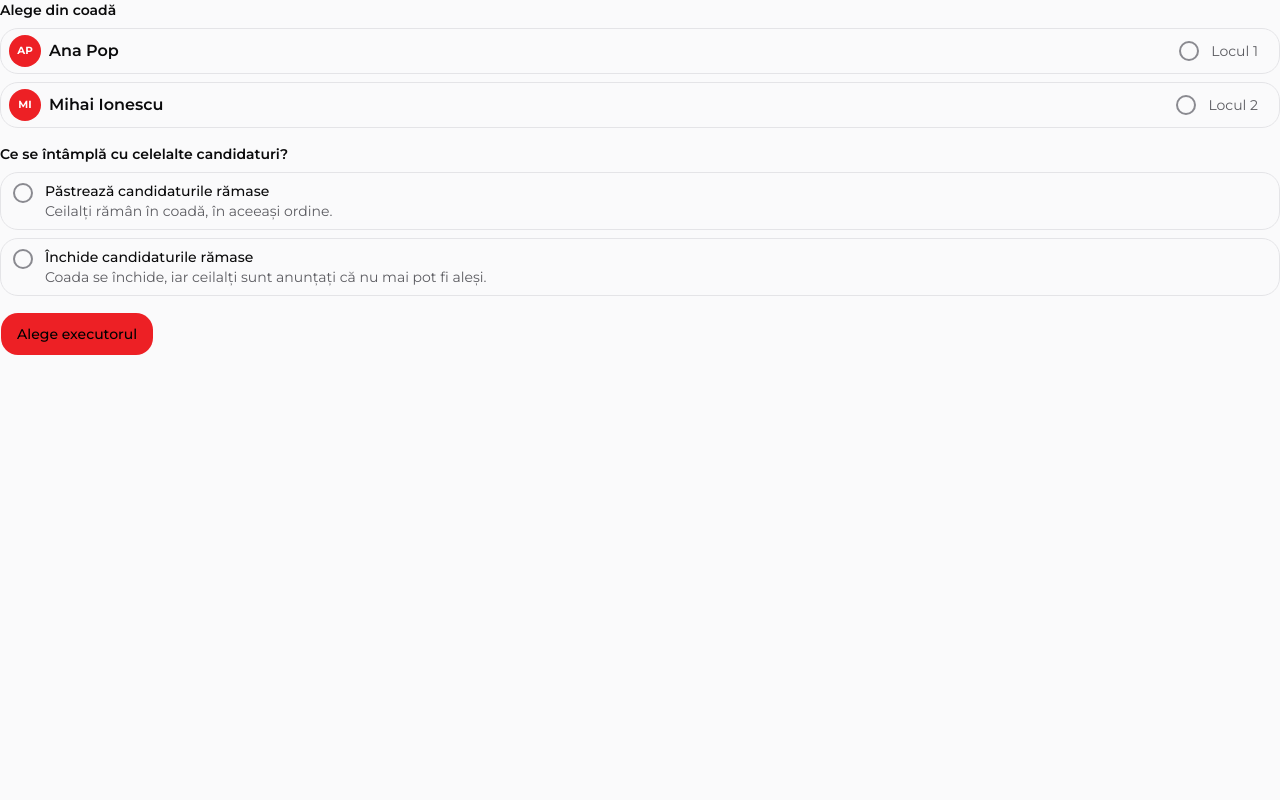
Test: Task candidate selector › says why a Candidate can no longer be selected
Click the radio button named "Ana Pop" at (1189, 51), box [1179,41,1199,61]
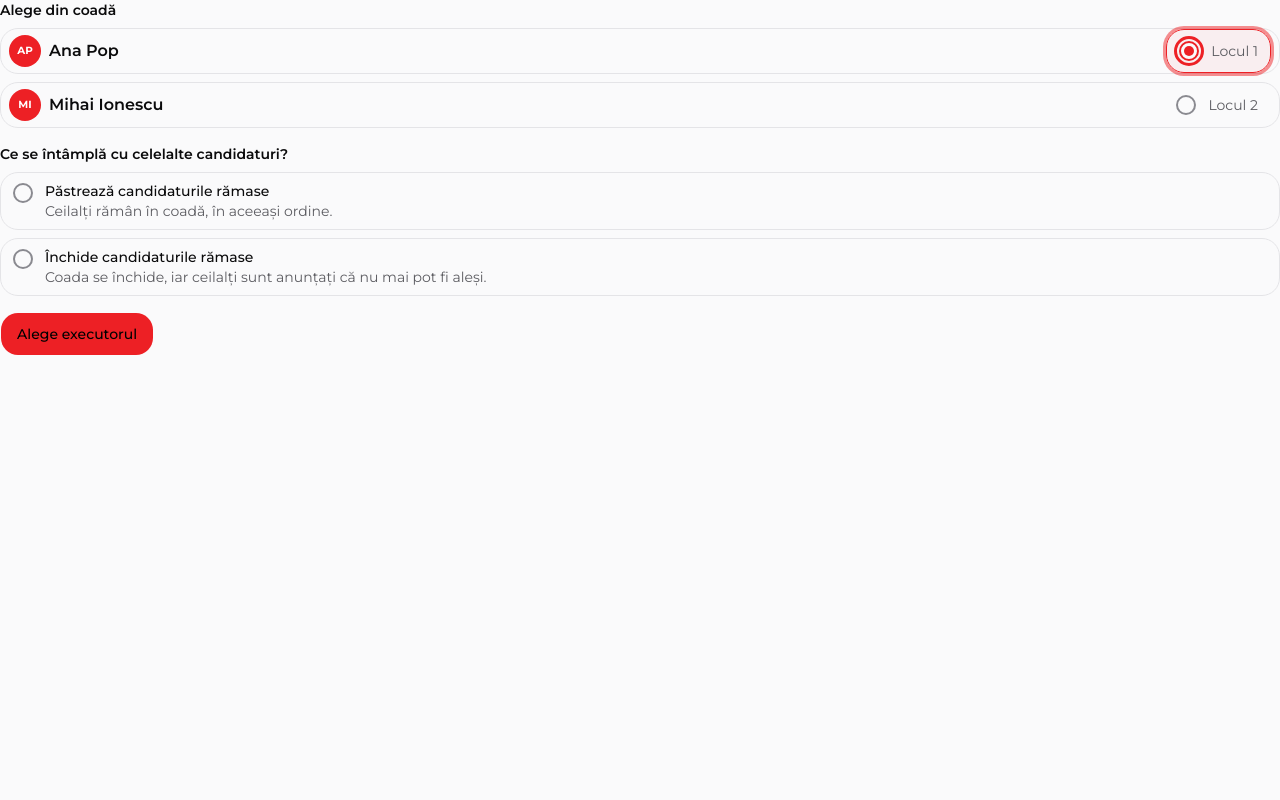
Click the radio button named "Păstrează candidaturile rămase" next to "Păstrează candidaturile rămase" at (23, 193), box [13,183,33,203]
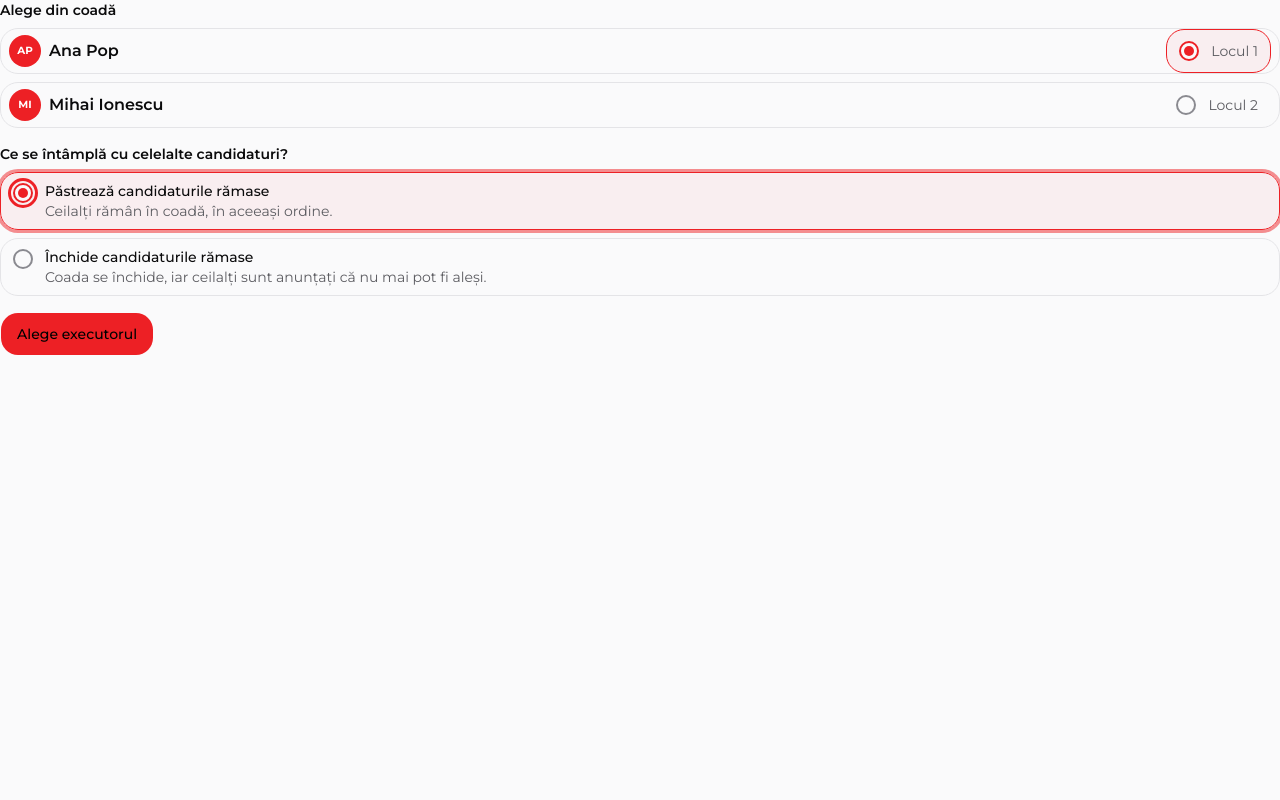
Click the button "Alege executorul" at (77, 334), box [0,312,154,356]
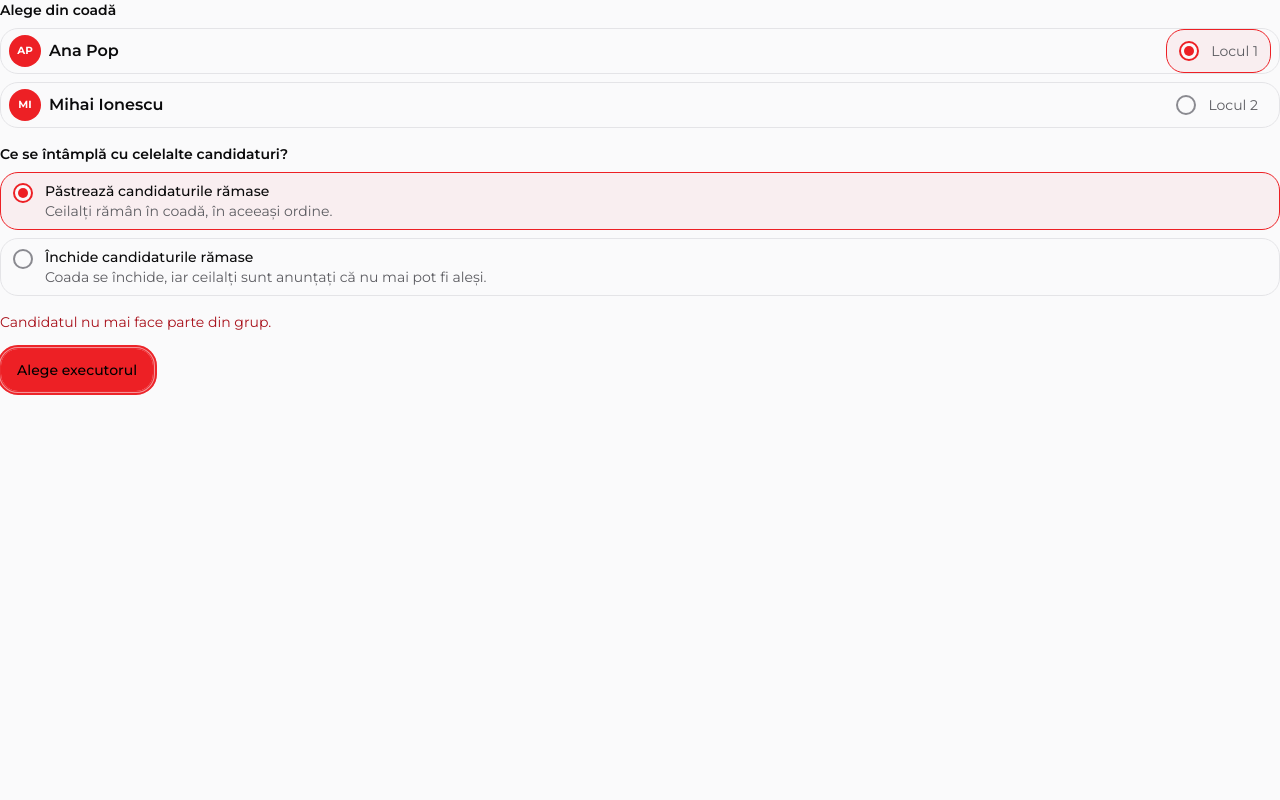
Check: the radio button named "Ana Pop" is checked, box [1179,41,1199,61]
Check: the message reads "Candidatul nu mai face parte din grup.", box [0,313,271,331]
